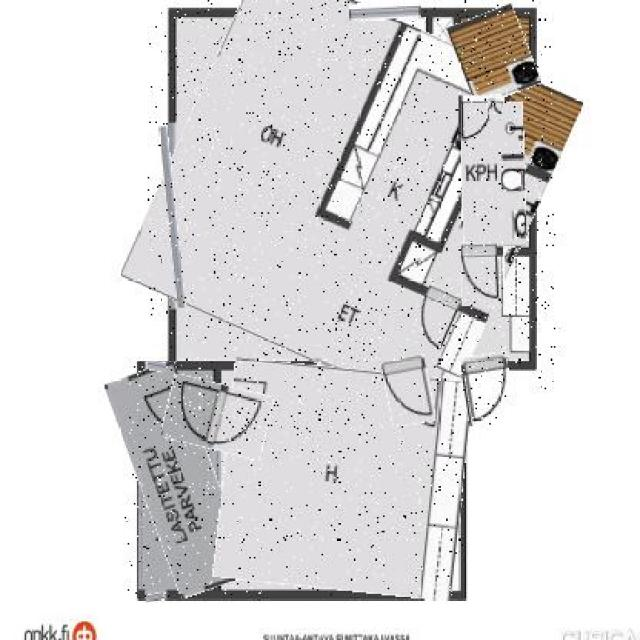door: (217, 363, 468, 595), (123, 363, 232, 597), (165, 378, 272, 456), (463, 352, 512, 425), (384, 356, 434, 424), (462, 242, 504, 306), (460, 96, 491, 142), (488, 95, 503, 114)
window: (163, 126, 180, 309), (349, 2, 420, 20), (146, 592, 165, 605), (146, 360, 166, 372)
zone: (148, 0, 555, 389), (460, 103, 526, 248), (452, 8, 534, 102)
